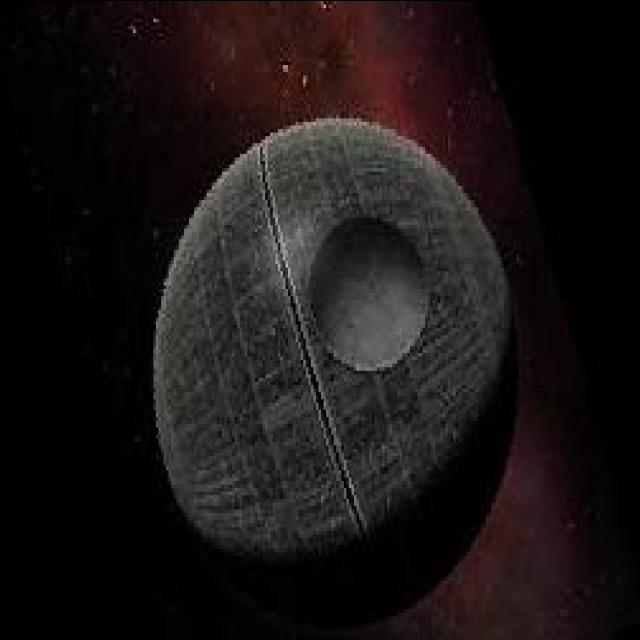Death Star: (147, 110, 521, 590)
